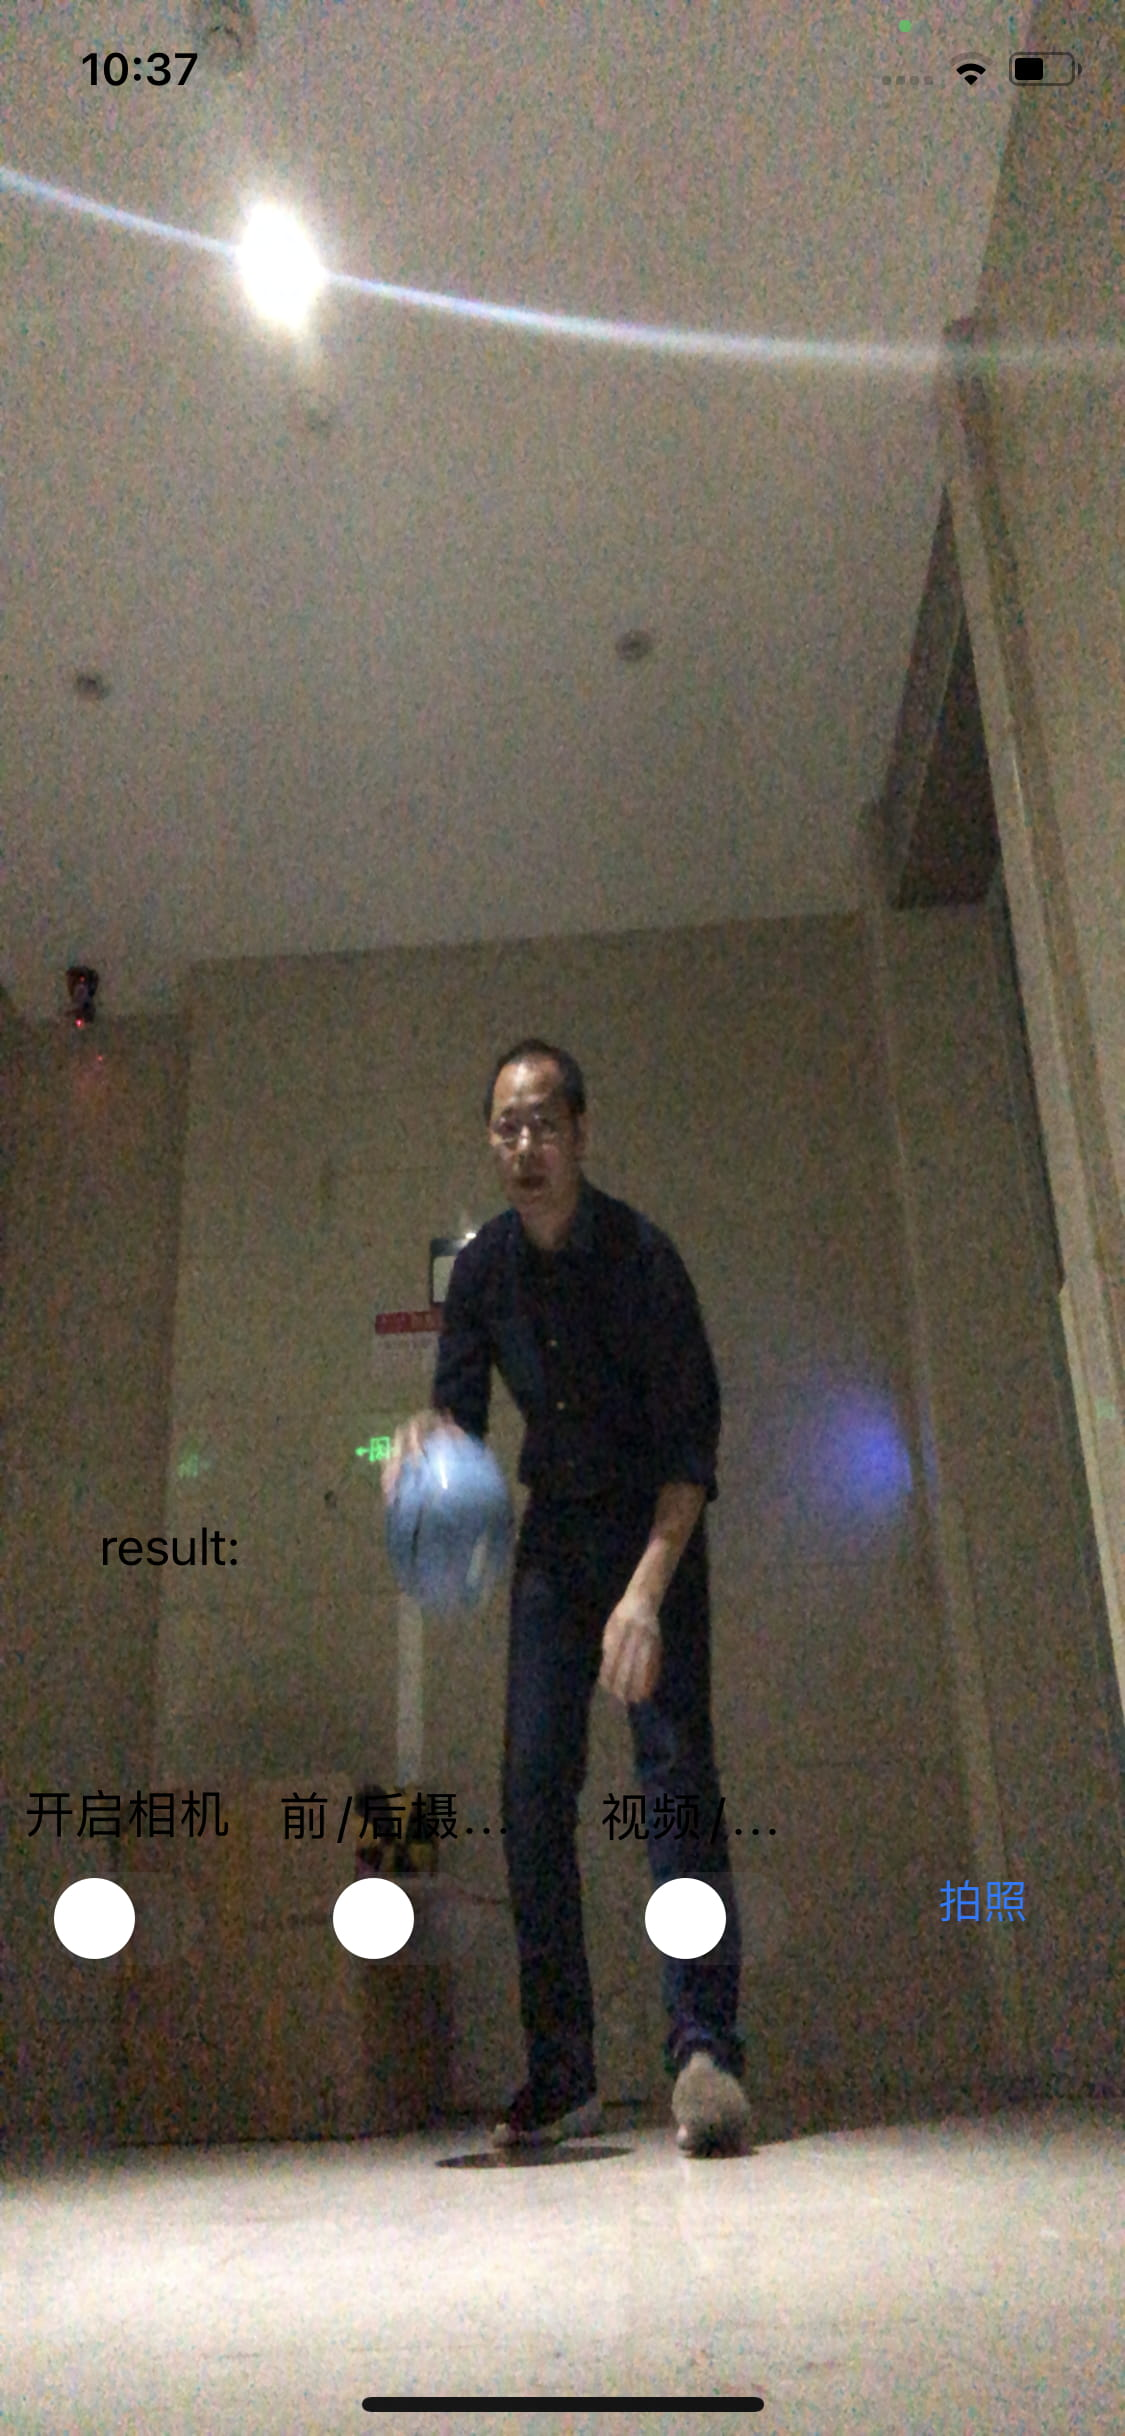ball: (374, 1428, 507, 1596)
